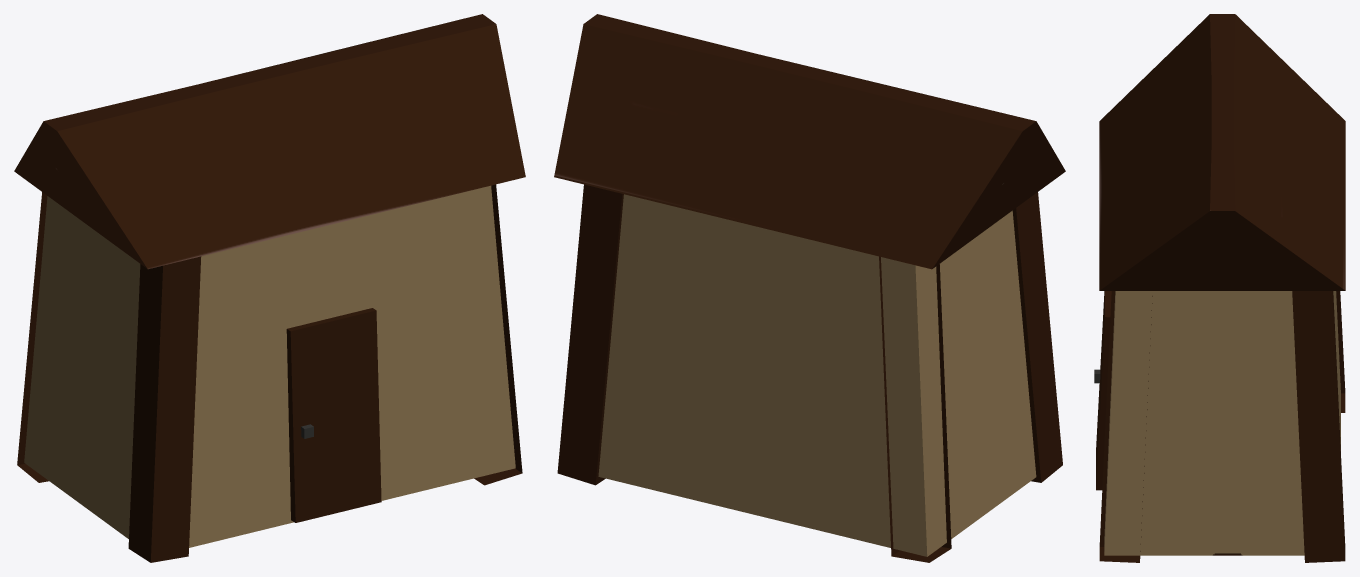
File: shack.glb
The picture shows the model from 3 angles, left to right: view 1: azimuth 30°, elevation 25°; view 2: azimuth 150°, elevation 25°; view 3: azimuth 270°, elevation 25°; orthographic projection. The views are drawn at different scales.
Visible parts, largest first — view 1: shack, verticalFrame, door, verticalFrame.001, verticalFrame.003; view 2: shack, verticalFrame.002, verticalFrame, verticalFrame.003; view 3: shack, verticalFrame.002, door, verticalFrame.001, verticalFrame.003.
Boxes of the visible parts, left/top/right/bottom form: shack: left=14, top=14, right=525, bottom=547; verticalFrame: left=128, top=256, right=201, bottom=562; door: left=286, top=308, right=381, bottom=522; verticalFrame.001: left=474, top=184, right=522, bottom=485; verticalFrame.003: left=17, top=192, right=48, bottom=482; shack: left=554, top=14, right=1065, bottom=556; verticalFrame.002: left=557, top=184, right=623, bottom=485; verticalFrame: left=1012, top=192, right=1062, bottom=482; verticalFrame.003: left=879, top=256, right=951, bottom=562; shack: left=1099, top=14, right=1345, bottom=555; verticalFrame.002: left=1292, top=291, right=1345, bottom=562; door: left=1096, top=291, right=1111, bottom=490; verticalFrame.001: left=1099, top=291, right=1152, bottom=562; verticalFrame.003: left=1336, top=291, right=1345, bottom=412.
Size of the model in its own units: 15.77 by 13.79 by 8.51.
4 materials, 3 textured.
